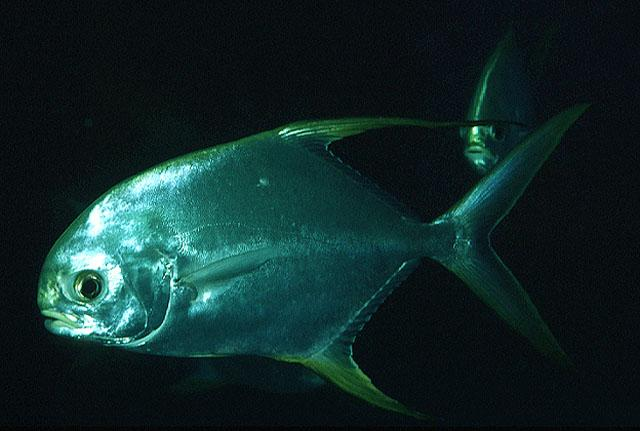Mulut: (24, 299, 80, 360)
Sirip Anal: (330, 247, 432, 343)
Sirip Dada: (156, 232, 327, 316)
Sirip Ekor: (425, 93, 599, 389)
Sirip Perut: (282, 344, 434, 428)
Sirip Punggung: (254, 96, 528, 200)
